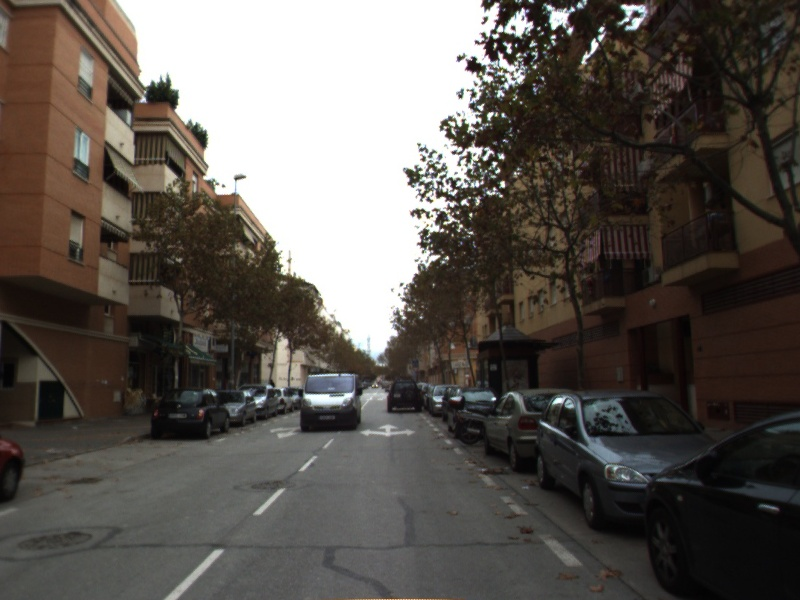STRAIGHT_LEFT_RIGHT: (358, 422, 417, 439)
